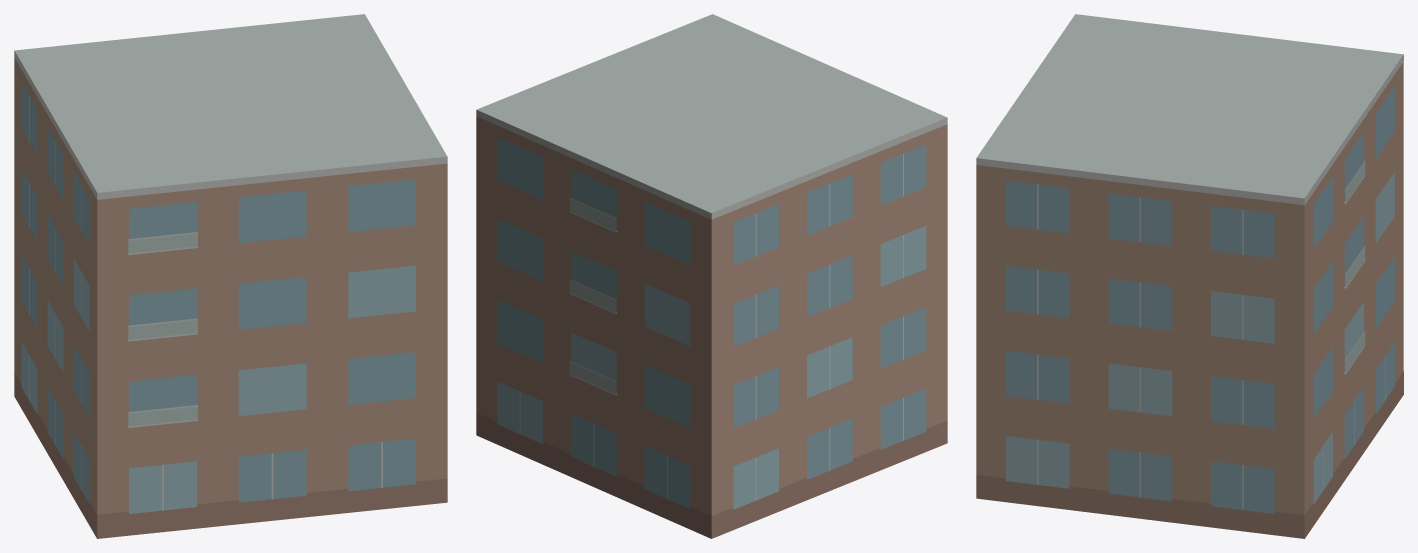
Rendered from residential-cc96d2f5-54ec-4eef-a3fb-78a59a7ab608.glb.
The picture shows the model from 3 angles, left to right: view 1: azimuth 30°, elevation 25°; view 2: azimuth 150°, elevation 25°; view 3: azimuth 270°, elevation 25°; orthographic projection. The views are drawn at different scales.
Parts seen in each view (by area): view 1: residential-cc96d2f5-54ec-4eef-a3fb-78a59a7ab608.tmp; view 2: residential-cc96d2f5-54ec-4eef-a3fb-78a59a7ab608.tmp; view 3: residential-cc96d2f5-54ec-4eef-a3fb-78a59a7ab608.tmp.
Part boxes in pixels (<box>): residential-cc96d2f5-54ec-4eef-a3fb-78a59a7ab608.tmp: <box>14,14,447,538</box>; residential-cc96d2f5-54ec-4eef-a3fb-78a59a7ab608.tmp: <box>476,14,947,538</box>; residential-cc96d2f5-54ec-4eef-a3fb-78a59a7ab608.tmp: <box>976,14,1403,538</box>.
Bounding box in the file's own units: 14.19 × 12.2 × 13.89.
